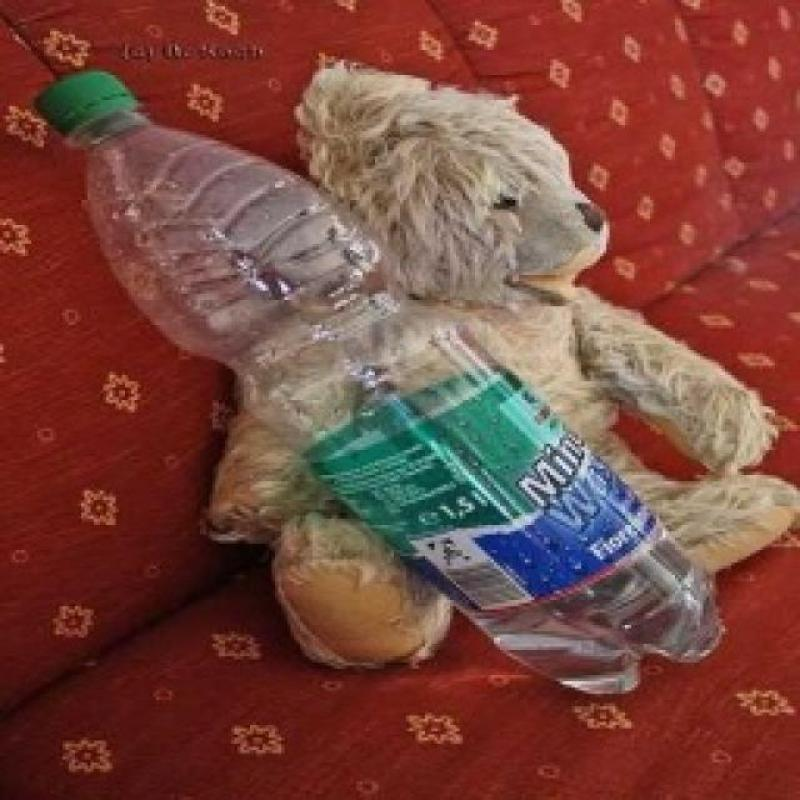botella: (34, 66, 728, 703)
